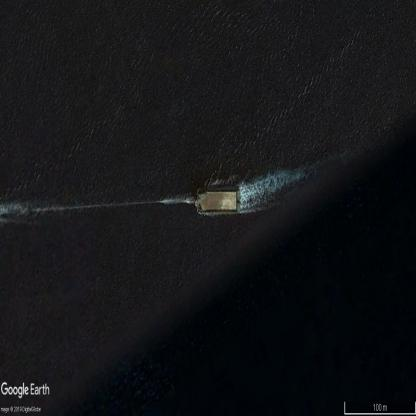ship: (197, 192, 237, 213)
